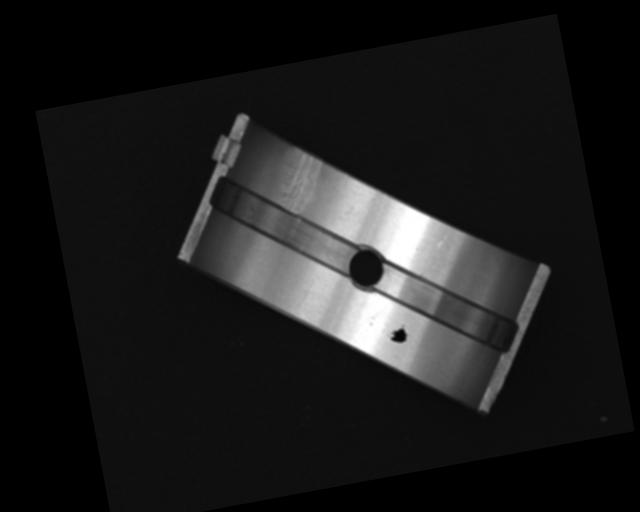blot: (384, 321, 409, 346)
gap: (210, 158, 361, 297), (375, 247, 521, 372)
hole: (345, 245, 388, 291)
nick: (414, 234, 454, 278), (293, 278, 318, 310)
scratch: (271, 145, 329, 216)
